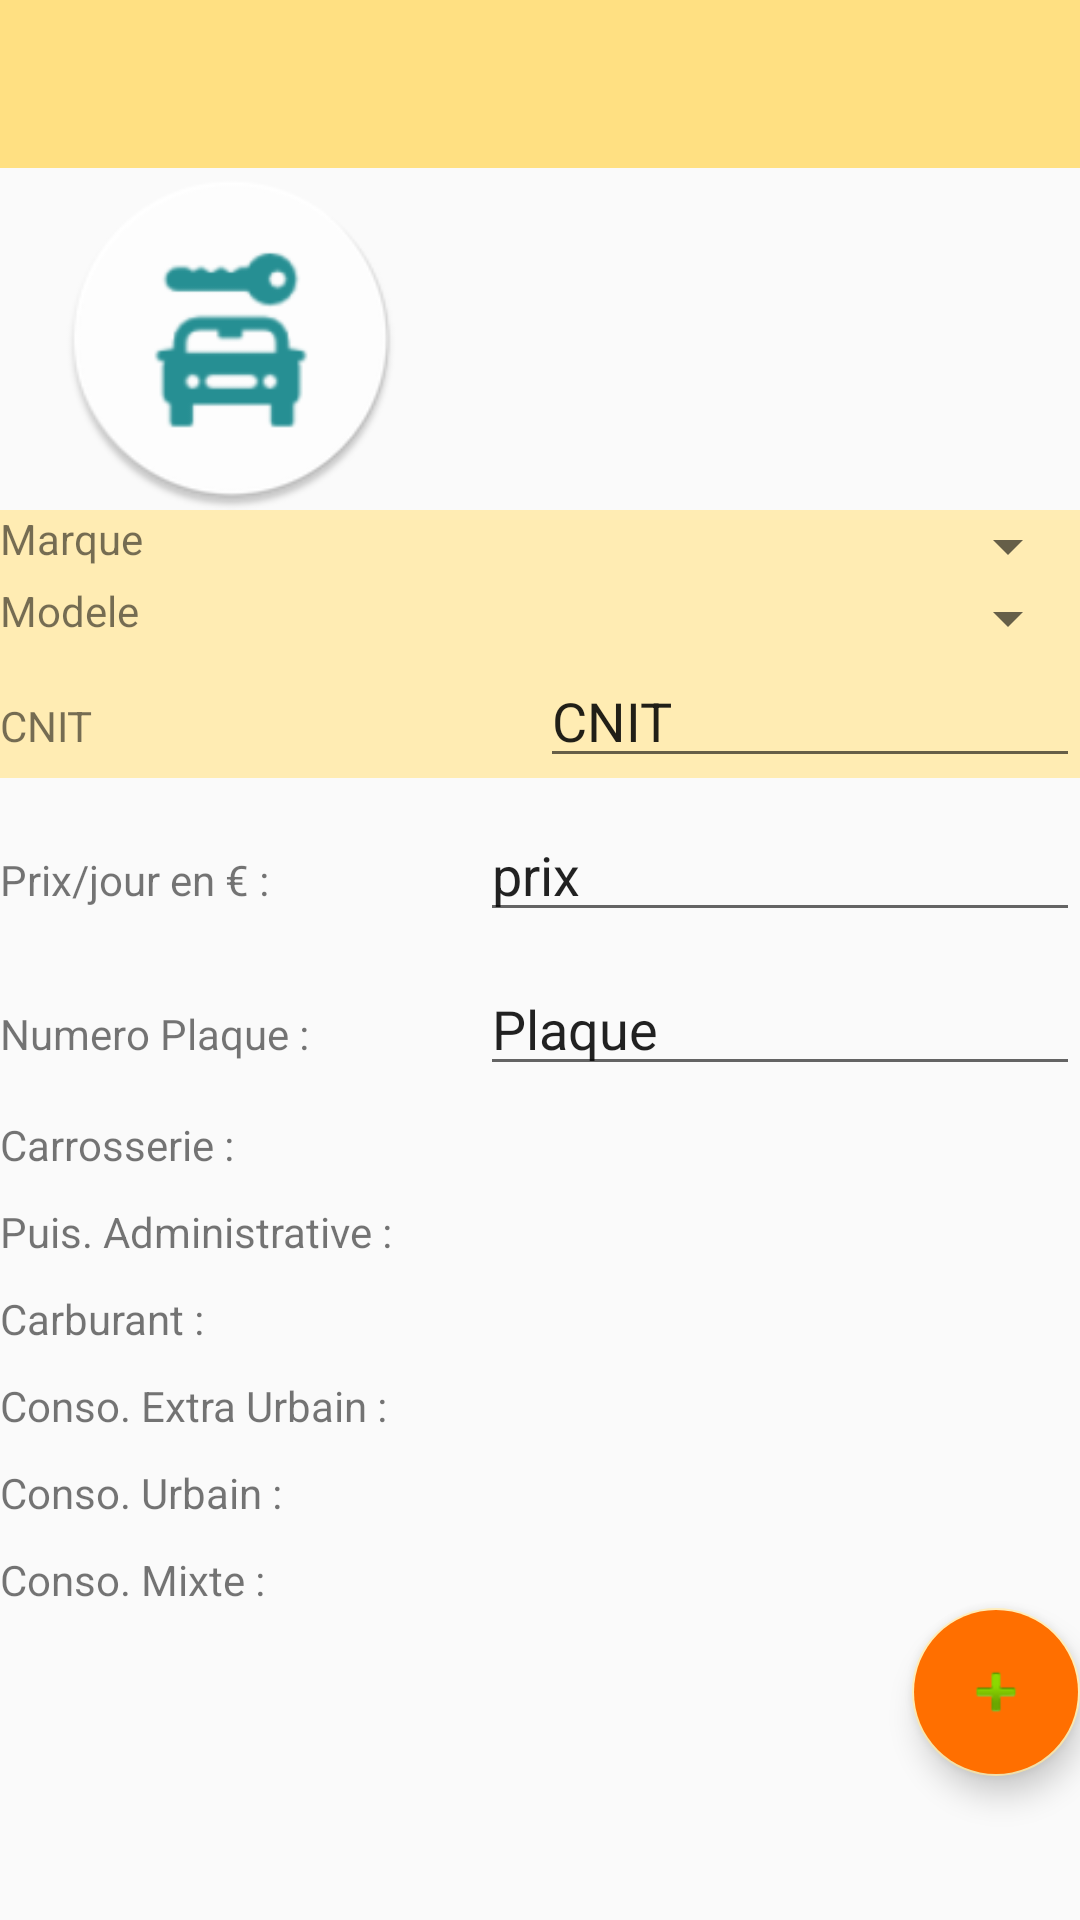

Named icons in this screenshot (1080×1920) and their bounding boxes, bbox=[x1, y1, x2, y2]:
add: bbox=[912, 1608, 1080, 1776]
